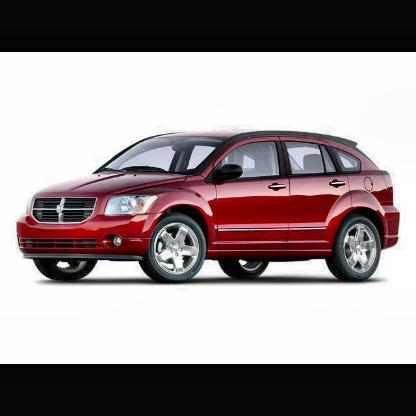Dodge Caliber Wagon 2007: (18, 131, 401, 287)
